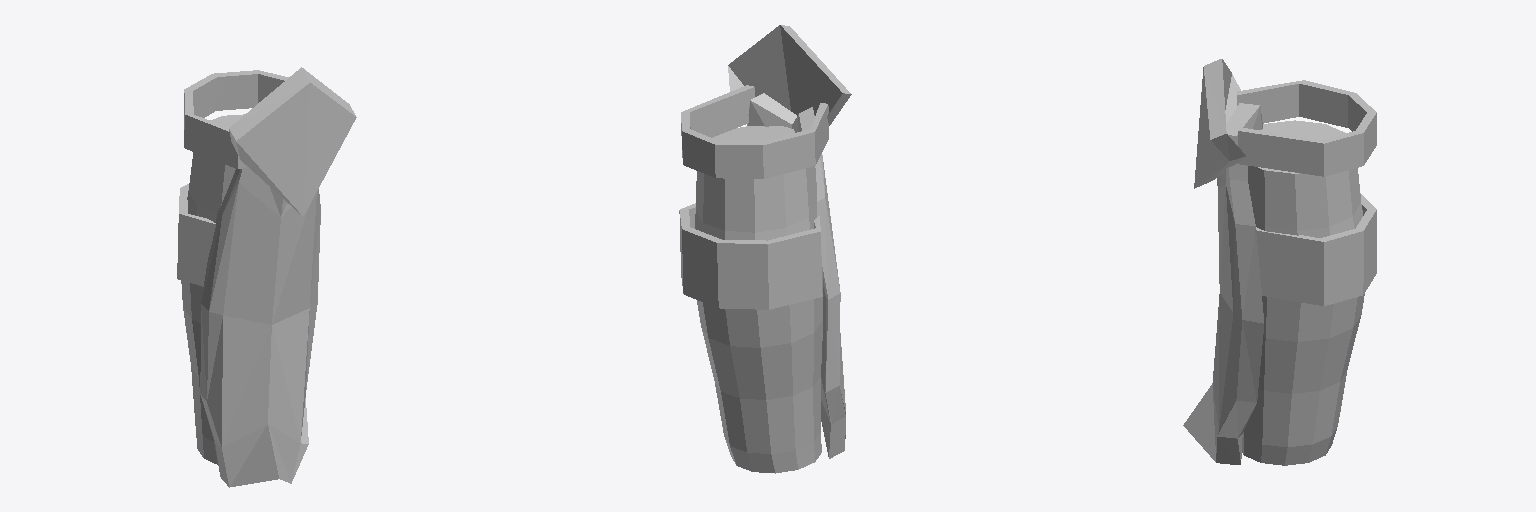
Rendered from LowerLeg_R.obj.
3 views of the same model, side by side, from view 1: azimuth 30°, elevation 25°; view 2: azimuth 150°, elevation 25°; view 3: azimuth 270°, elevation 25° (orthographic).
Parts seen in each view (by area): view 1: LowerLeg_R pCube55, pCube44 LowerLeg_R, LowerLeg_R pPipe30, LowerLeg_R pCylinder62, LowerLeg_R pPipe32; view 2: LowerLeg_R pCylinder62, LowerLeg_R pPipe32, LowerLeg_R pPipe30, LowerLeg_R pCube55, pCube44 LowerLeg_R; view 3: LowerLeg_R pCylinder62, LowerLeg_R pCube55, LowerLeg_R pPipe30, LowerLeg_R pPipe32, pCube44 LowerLeg_R.
Boxes of the visible parts, box(x1,y1,x2,y2) form: LowerLeg_R pCube55: box(200, 165, 320, 487); pCube44 LowerLeg_R: box(229, 67, 356, 216); LowerLeg_R pPipe30: box(184, 70, 288, 168); LowerLeg_R pCylinder62: box(181, 114, 244, 464); LowerLeg_R pPipe32: box(177, 184, 215, 286); LowerLeg_R pCylinder62: box(695, 126, 822, 473); LowerLeg_R pPipe32: box(679, 203, 822, 309); LowerLeg_R pPipe30: box(681, 85, 828, 178); LowerLeg_R pCube55: box(747, 93, 845, 458); pCube44 LowerLeg_R: box(728, 25, 851, 125); LowerLeg_R pCylinder62: box(1242, 120, 1364, 465); LowerLeg_R pCube55: box(1183, 103, 1263, 464); LowerLeg_R pPipe30: box(1237, 80, 1376, 176); LowerLeg_R pPipe32: box(1255, 193, 1376, 305); pCube44 LowerLeg_R: box(1194, 59, 1245, 188).
Size of the model in its own units: 1.13 by 3.34 by 1.43.